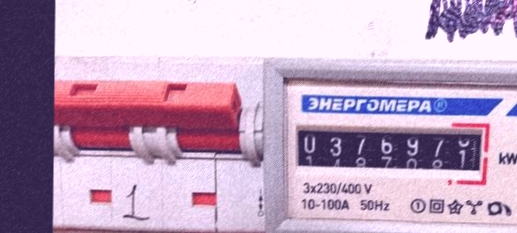0: (301, 132, 317, 153)
1: (457, 148, 468, 169)
3: (328, 134, 342, 157)
6: (380, 133, 393, 154)
7: (354, 131, 367, 156), (431, 134, 444, 157)
9: (405, 134, 418, 156)
screen: (289, 118, 493, 188)
